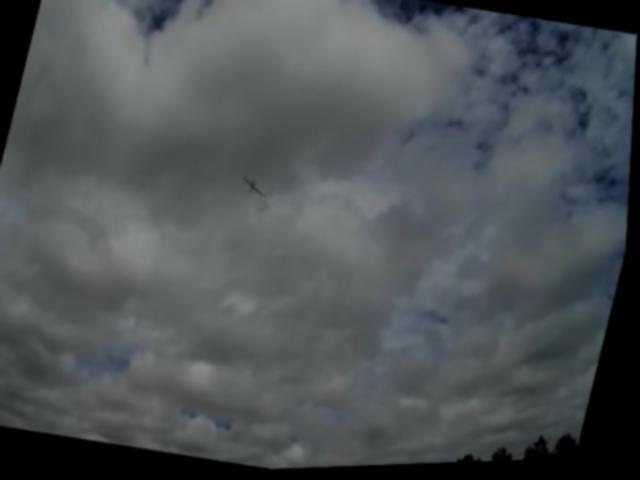uav: (235, 169, 277, 207)
